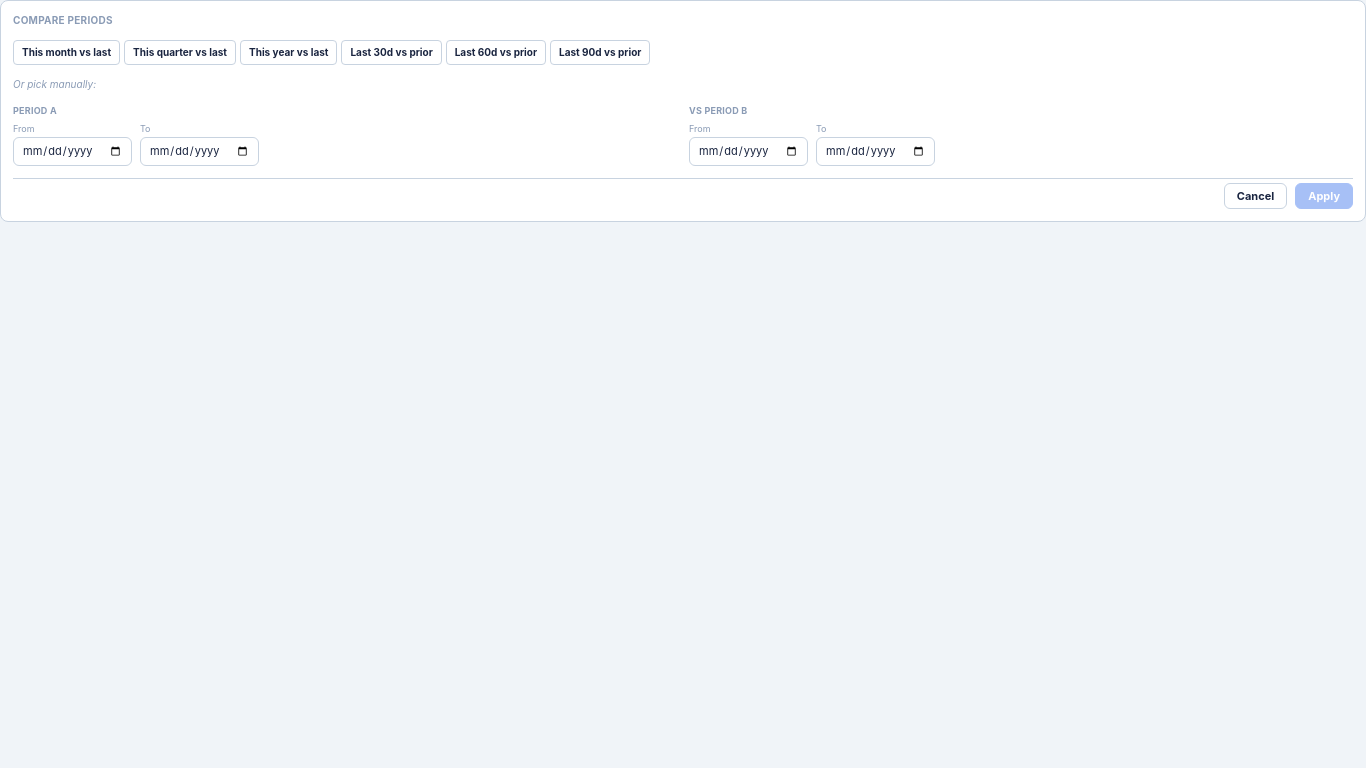
Scenario: <ComparePanel /> — fix-137-b › clicking "This quarter vs last" preset fills BOTH Period A and Period B
Click the button with test id "p-preset-this_quarter_vs_last" at (180,52), box [124,40,236,65]
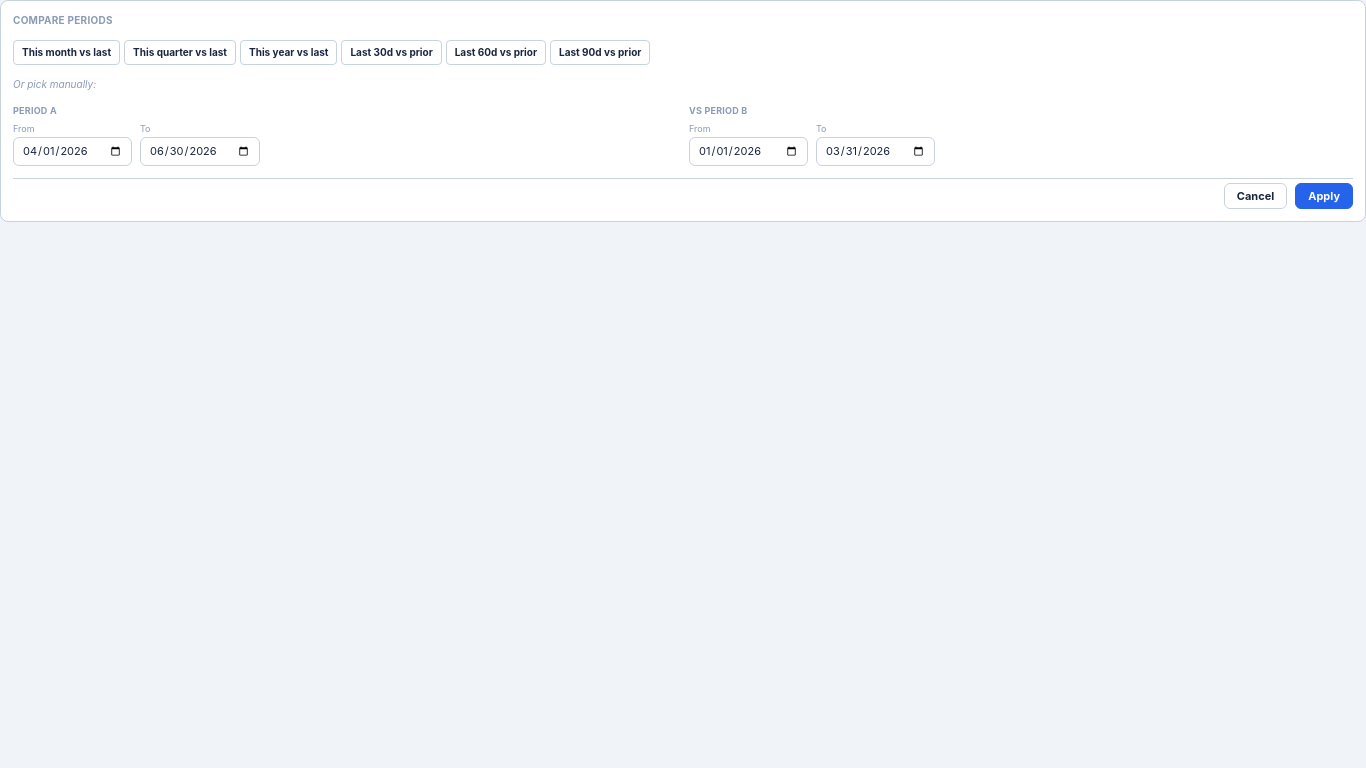
Now the date field with test id "p-period-a-from" holds "2026-04-01", box [13,137,132,166]
Now the date field with test id "p-period-a-to" holds "2026-06-30", box [140,137,260,166]
Now the date field with test id "p-period-b-from" holds "2026-01-01", box [689,137,808,166]
